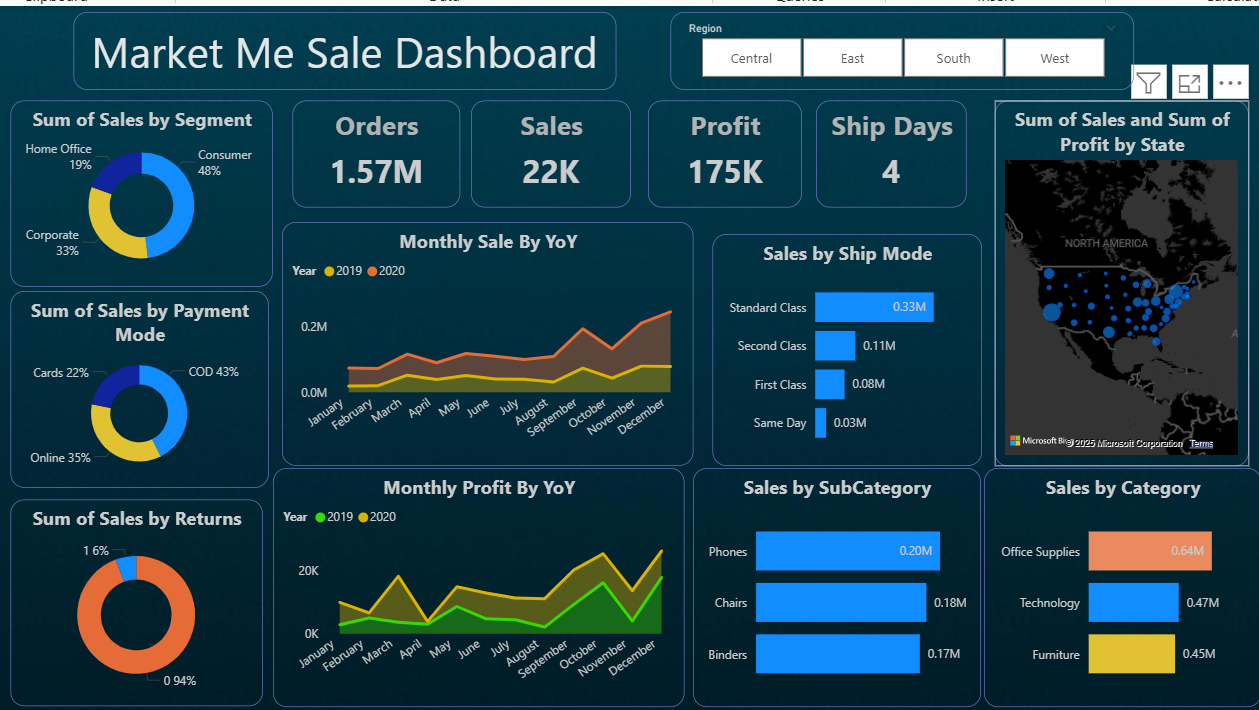

The page's visual inventory and layout, read from the dashboard file:
{"tool":"powerbi","page":{"name":"Page 1","canvas":[1280,720],"ordinal":0},"visuals":[{"type":"clusteredBarChart","title":" Sales by Category","fields":{"Category":["SuperStore_Sales_Dataset.Category"],"Y":["Sum(SuperStore_Sales_Dataset.Sales)"]},"box":[996.9,466.2,280,241.5],"z":0},{"type":"clusteredBarChart","title":" Sales by SubCategory","fields":{"Y":["Sum(SuperStore_Sales_Dataset.Sales)"],"Category":["SuperStore_Sales_Dataset.Sub-Category"]},"box":[703.1,466.2,290.8,241.5],"z":1000},{"type":"clusteredBarChart","title":" Sales by Ship Mode","fields":{"Y":["Sum(SuperStore_Sales_Dataset.Sales)"],"Category":["SuperStore_Sales_Dataset.Ship Mode"]},"box":[721.5,230.8,272.3,233.8],"z":2000},{"type":"stackedAreaChart","title":" Monthly Sale By YoY ","fields":{"Category":["SuperStore_Sales_Dataset.Order Date.Variation.Date Hierarchy.Month","SuperStore_Sales_Dataset.Order Date.Variation.Date Hierarchy.Day"],"Y":["Sum(SuperStore_Sales_Dataset.Sales)"],"Series":["SuperStore_Sales_Dataset.Order Date.Variation.Date Hierarchy.Year"]},"box":[287.7,218.5,415.4,246.2],"z":3000},{"type":"stackedAreaChart","title":" Monthly Profit By YoY ","fields":{"Category":["SuperStore_Sales_Dataset.Order Date.Variation.Date Hierarchy.Month","SuperStore_Sales_Dataset.Order Date.Variation.Date Hierarchy.Day"],"Series":["SuperStore_Sales_Dataset.Order Date.Variation.Date Hierarchy.Year"],"Y":["Sum(SuperStore_Sales_Dataset.Profit)"]},"box":[278.5,466.2,415.4,241.5],"z":4000},{"type":"map","fields":{"Category":["SuperStore_Sales_Dataset.State"],"Size":["Sum(SuperStore_Sales_Dataset.Sales)"]},"box":[1007.7,95.4,256.9,369.2],"z":5000},{"type":"donutChart","fields":{"Category":["SuperStore_Sales_Dataset.Segment"],"Y":["Sum(SuperStore_Sales_Dataset.Sales)"]},"box":[13.6,95.4,265,187.8],"z":6000},{"type":"donutChart","fields":{"Y":["Sum(SuperStore_Sales_Dataset.Sales)"],"Category":["SuperStore_Sales_Dataset.Payment Mode"]},"box":[13.6,287.7,260.4,198.4],"z":7000},{"type":"donutChart","fields":{"Y":["Sum(SuperStore_Sales_Dataset.Sales)"],"Category":["SuperStore_Sales_Dataset.Returns"]},"box":[13.6,498.2,254.4,209],"z":8000},{"type":"slicer","fields":{"Values":["SuperStore_Sales_Dataset.Region"]},"box":[680,6.2,467.7,78.5],"z":9000},{"type":"textbox","box":[77.2,6.1,548.1,78.7],"z":10000},{"type":"card","title":"Orders","fields":{"Values":["Sum(SuperStore_Sales_Dataset.Sales)"]},"box":[298.5,95.4,169.2,107.7],"z":11000},{"type":"card","title":"Sales","fields":{"Values":["Sum(SuperStore_Sales_Dataset.Quantity)"]},"box":[478.5,95.4,161.5,107.7],"z":12000},{"type":"card","title":"Profit","fields":{"Values":["Sum(SuperStore_Sales_Dataset.Profit)"]},"box":[656.9,95.4,155.4,107.7],"z":13000},{"type":"card","title":"Ship Days","fields":{"Values":["Avg(SuperStore_Sales_Dataset.Avg Delivery)"]},"box":[826.2,95.4,152.3,107.7],"z":14000}]}

Visuals, with their boxes on the page's 1280x720 design canvas (x1, y1, x2, y2). These are canvas units, not pixel positions in the 1259x710 screenshot, which may show the page scaled, cropped or inside an application window:
" Sales by Category" clusteredBarChart: crop(997, 466, 1277, 708)
" Sales by SubCategory" clusteredBarChart: crop(703, 466, 994, 708)
" Sales by Ship Mode" clusteredBarChart: crop(722, 231, 994, 465)
" Monthly Sale By YoY " stackedAreaChart: crop(288, 218, 703, 465)
" Monthly Profit By YoY " stackedAreaChart: crop(278, 466, 694, 708)
map - SuperStore_Sales_Dataset.State x Sum(SuperStore_Sales_Dataset.Sales): crop(1008, 95, 1265, 465)
donutChart - SuperStore_Sales_Dataset.Segment x Sum(SuperStore_Sales_Dataset.Sales): crop(14, 95, 279, 283)
donutChart - Sum(SuperStore_Sales_Dataset.Sales) x SuperStore_Sales_Dataset.Payment Mode: crop(14, 288, 274, 486)
donutChart - Sum(SuperStore_Sales_Dataset.Sales) x SuperStore_Sales_Dataset.Returns: crop(14, 498, 268, 707)
slicer - SuperStore_Sales_Dataset.Region: crop(680, 6, 1148, 85)
textbox: crop(77, 6, 625, 85)
"Orders" card: crop(298, 95, 468, 203)
"Sales" card: crop(478, 95, 640, 203)
"Profit" card: crop(657, 95, 812, 203)
"Ship Days" card: crop(826, 95, 978, 203)
